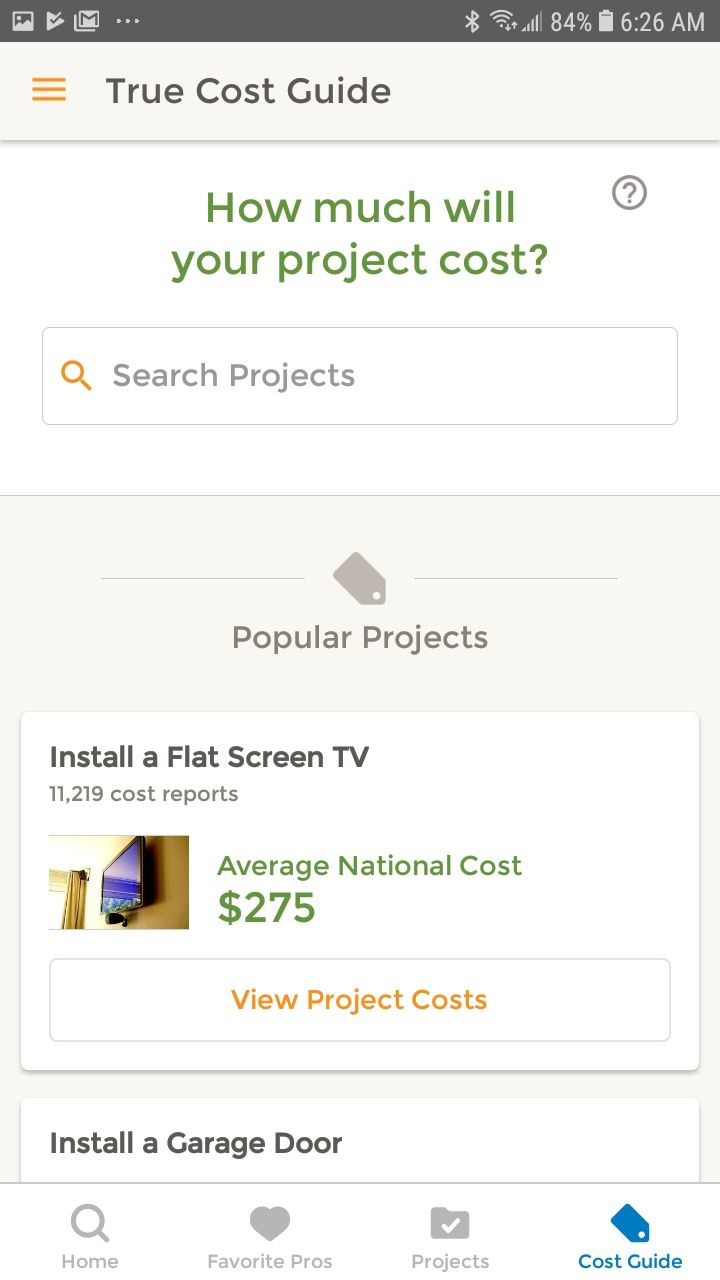EditText: (42, 327, 678, 426)
Icon: (333, 552, 387, 606), (71, 1203, 111, 1243), (610, 1203, 650, 1243), (250, 1205, 291, 1242), (431, 1206, 470, 1240), (612, 175, 648, 211), (62, 360, 94, 392), (32, 77, 68, 103)
Image: (49, 835, 190, 930)
Text: (171, 190, 548, 285), (217, 853, 523, 926), (51, 1130, 343, 1160), (106, 76, 392, 105), (234, 624, 488, 656), (113, 362, 356, 394), (51, 745, 370, 769), (49, 785, 239, 806), (209, 1253, 333, 1269), (578, 1252, 683, 1269), (412, 1252, 490, 1273), (63, 1253, 119, 1269)
TextButton: (49, 958, 672, 1043)
UpperTaskBar: (1, 1, 720, 43)
